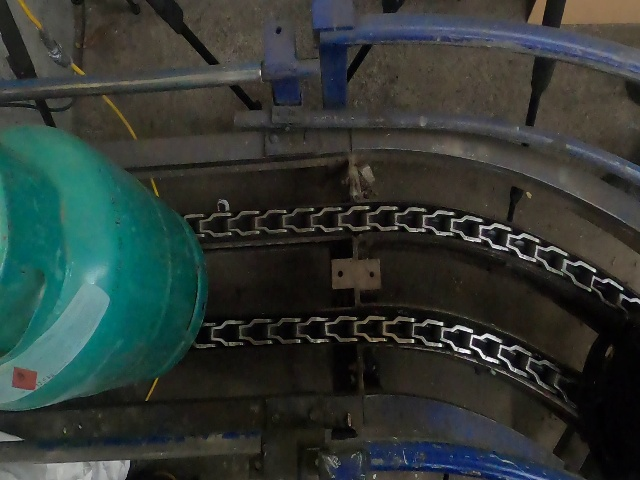gas_bottle: (5, 2, 629, 480)
